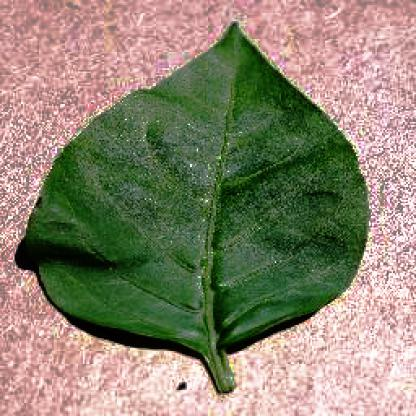Healthy: (23, 20, 369, 392)
